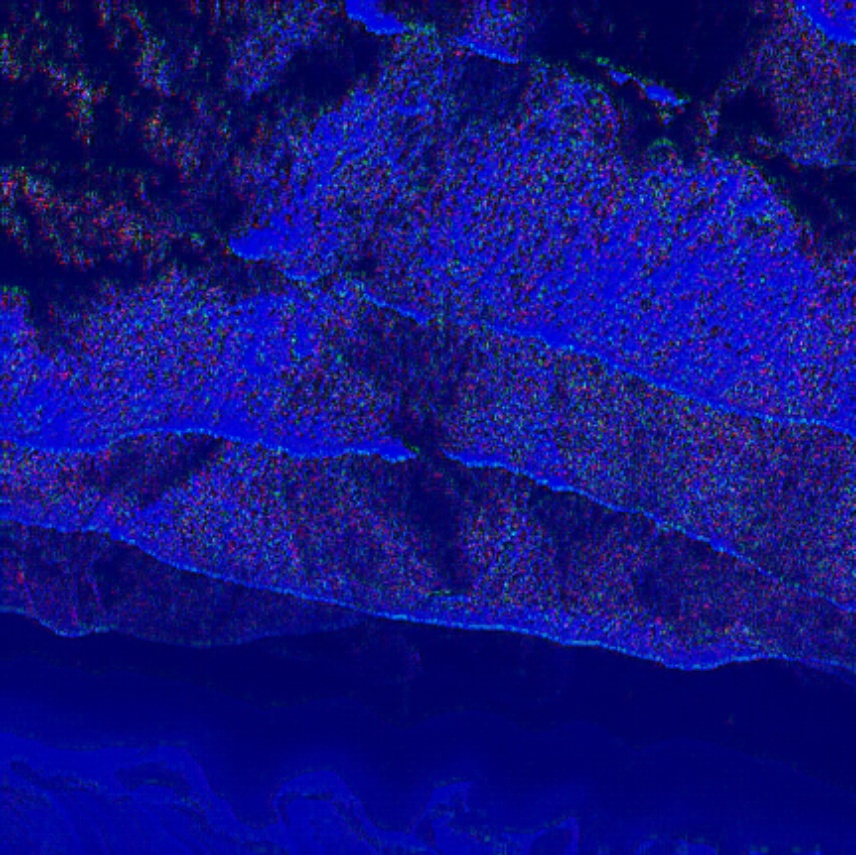rip_current: (296, 46, 593, 646)
